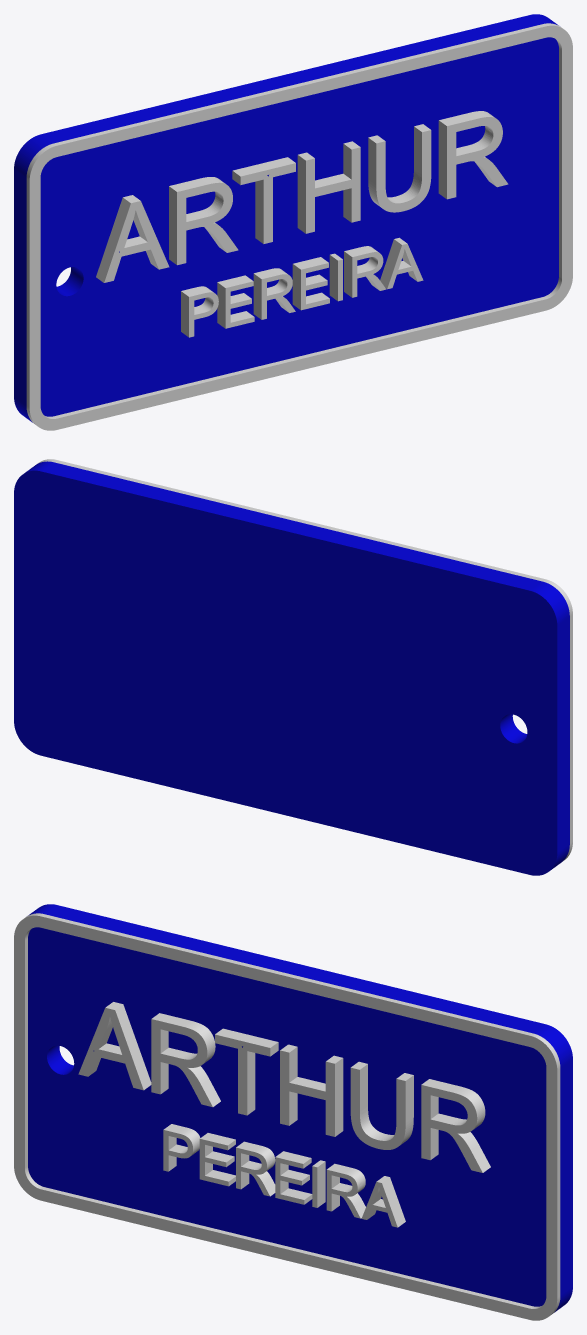
Rendered from Andre_Pereira.glb.
3 renders of one model, top to bottom at view 1: azimuth 30°, elevation 25°; view 2: azimuth 150°, elevation 25°; view 3: azimuth 330°, elevation 25°, orthographic.
Visible parts, largest first — view 1: base, rim, name_outline, surname_outline; view 2: base, rim; view 3: base, rim, name_outline, surname_outline.
Part boxes in pixels (x1,y1,x2,y2): base: (14,14,558,422); rim: (26,23,572,430); name_outline: (96,111,508,282); surname_outline: (181,237,423,337); base: (14,461,569,875); rim: (37,459,572,860); base: (28,904,572,1312); rim: (14,913,560,1320); name_outline: (78,1002,490,1172); surname_outline: (163,1124,405,1227).
Bounding box in the file's own units: 100 × 50 × 6.6.
